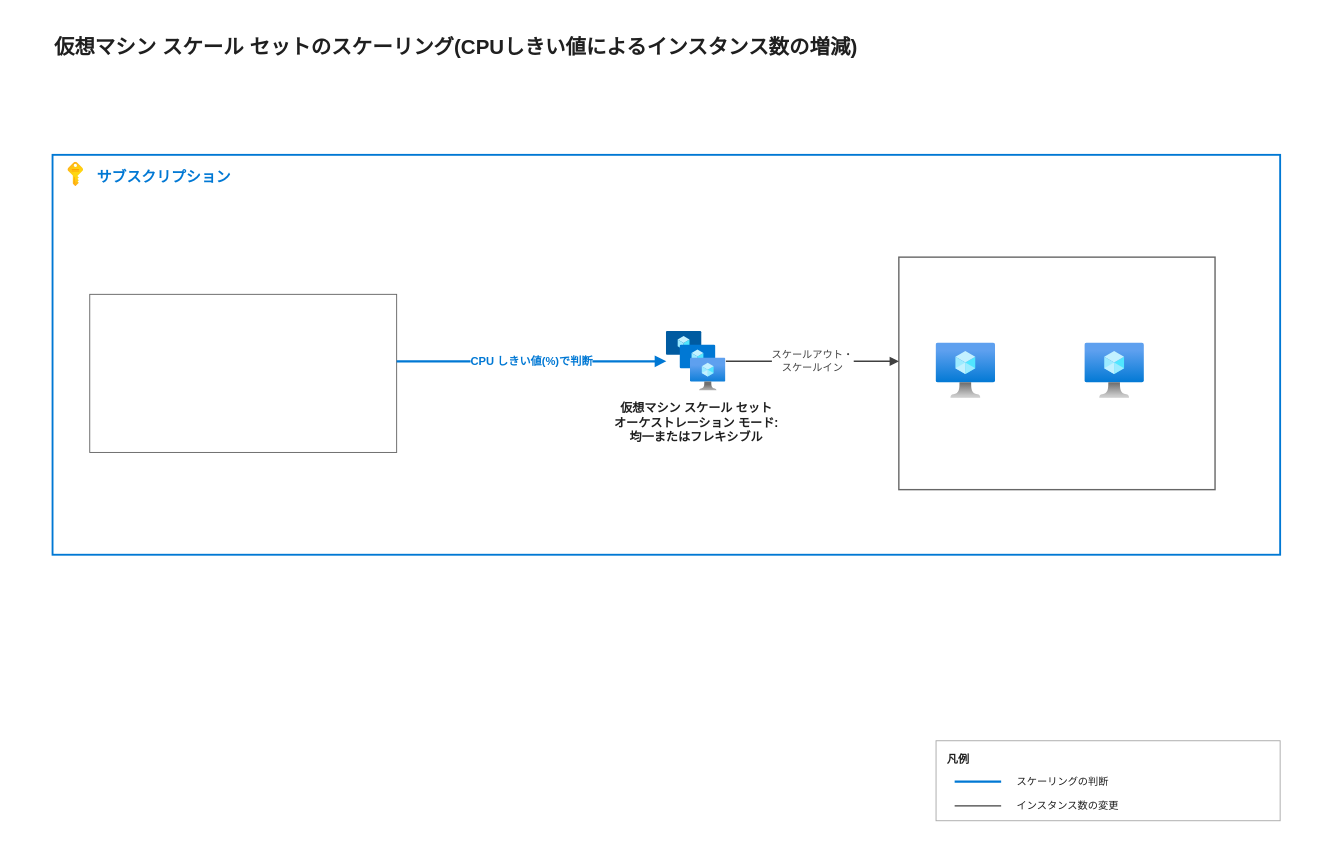
Some shapes in this 1332 by 867 pixel diagram are drawn without their labels. The shapes that lost their labels are listed below. From the top down, each one's box as (x1, y1, x2, y2) in pixels, then its label:
(89, 293, 397, 452): スケーリング タブの設定 ・手動スケールとスケールイン ポリシー ・カスタム スケーリング ポリシー (CPU しきい値(%)で増減を判断)
(898, 256, 1215, 490): VM インスタンス
